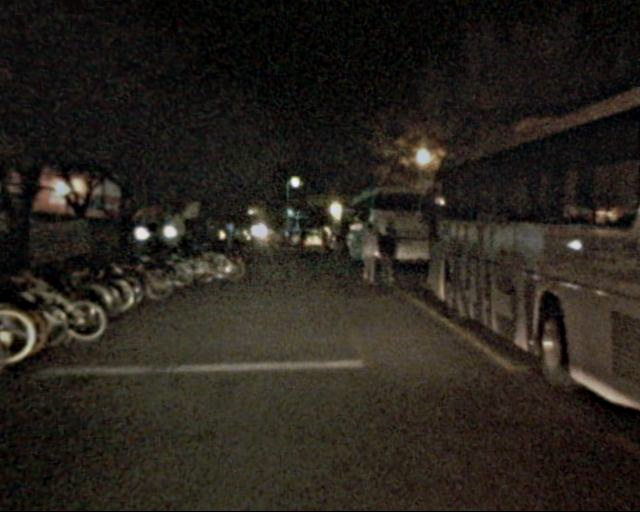person: (373, 226, 398, 288), (354, 225, 379, 286), (326, 224, 346, 273)
